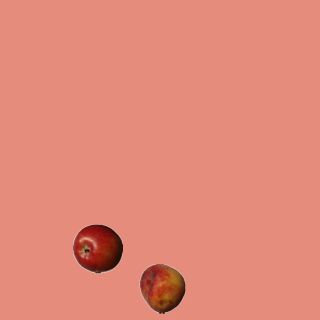Apple Braeburn: (72, 223, 122, 273)
Peach: (137, 263, 187, 313)
